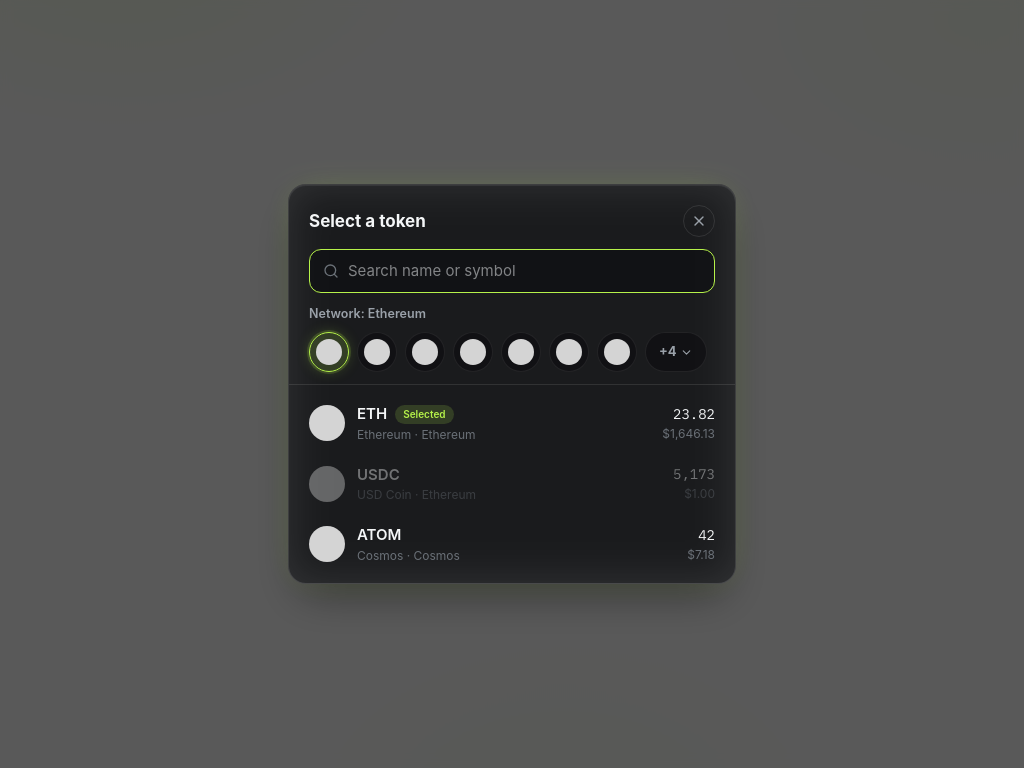
it: <TokenSelectModal /> › shows a friendly empty state when nothing matches
Type "zzz" into the field with placeholder "Search name or symbol" at [524, 271], box [348,260,701,283]
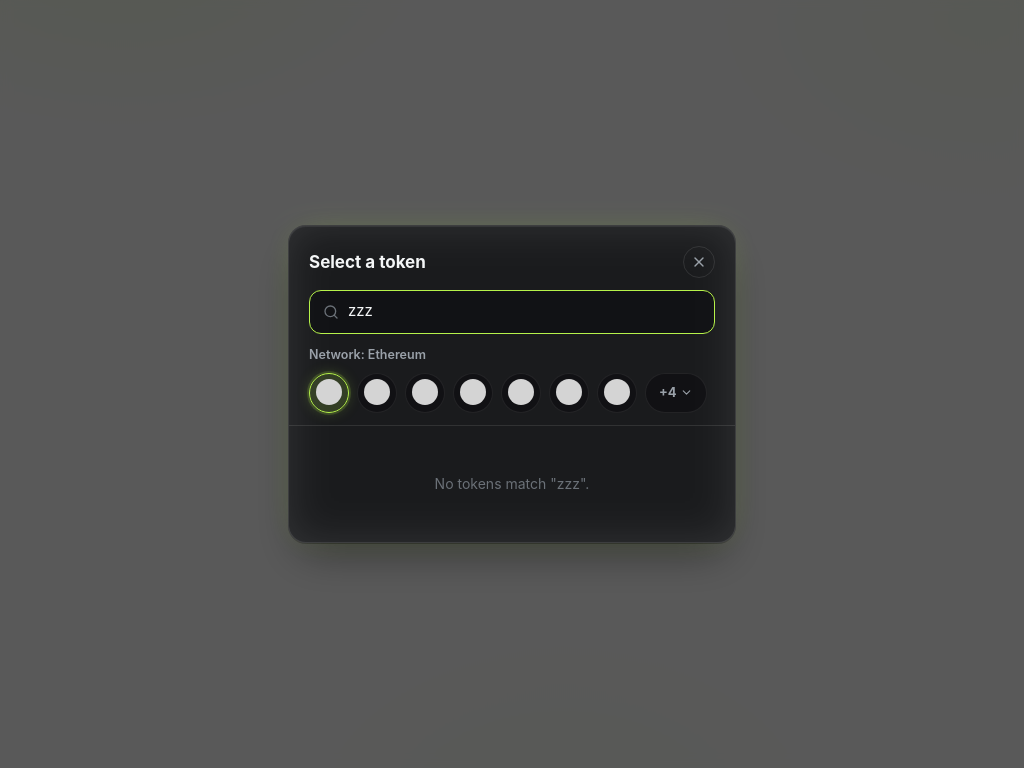
Expected: the text "No tokens match \"zzz\"." is shown, [435,475,589,492]
